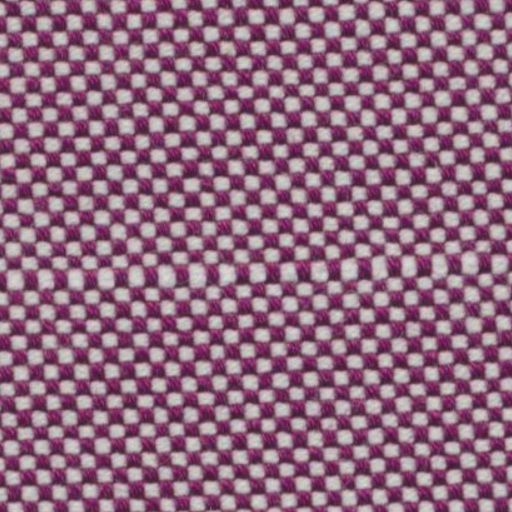TuoSha: (6, 234, 502, 304)
